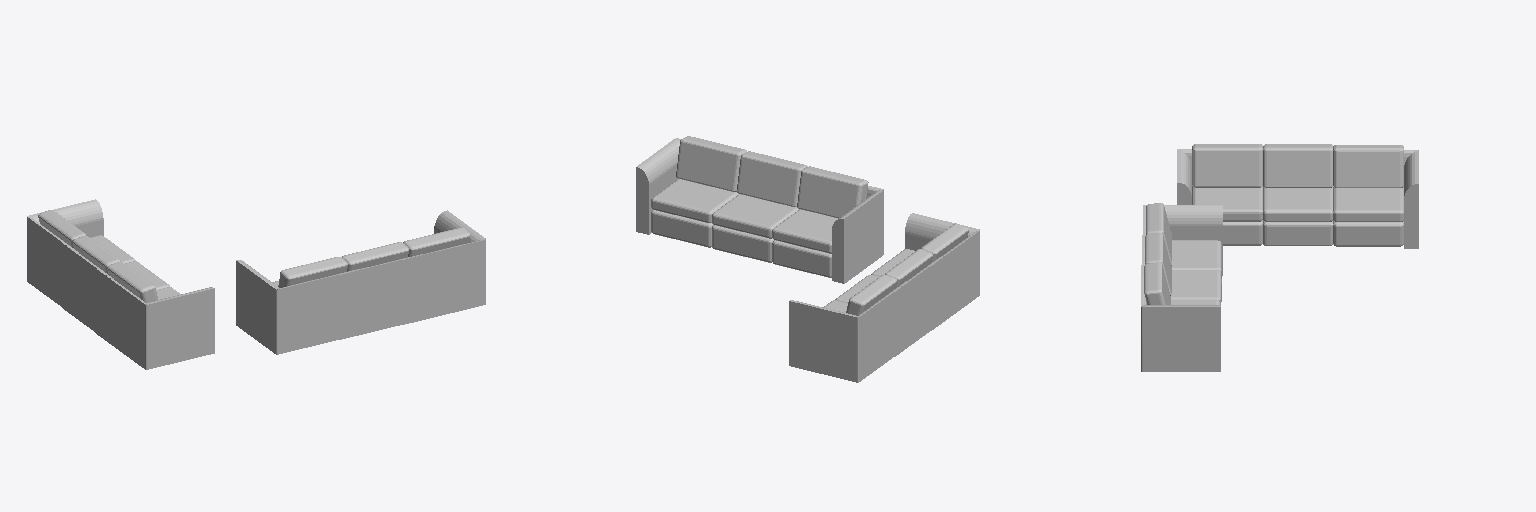
Rendered from housesp_017.obj.
The picture shows the model from 3 angles: view 1: azimuth 30°, elevation 25°; view 2: azimuth 150°, elevation 25°; view 3: azimuth 270°, elevation 25°; orthographic projection.
Size of the model in its own units: 361 by 79.2 by 269.